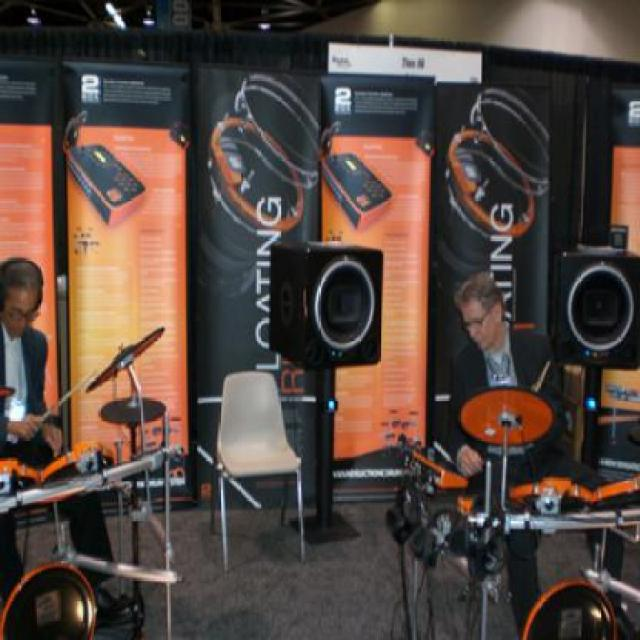Person: (430, 267, 628, 638), (0, 252, 137, 634)
